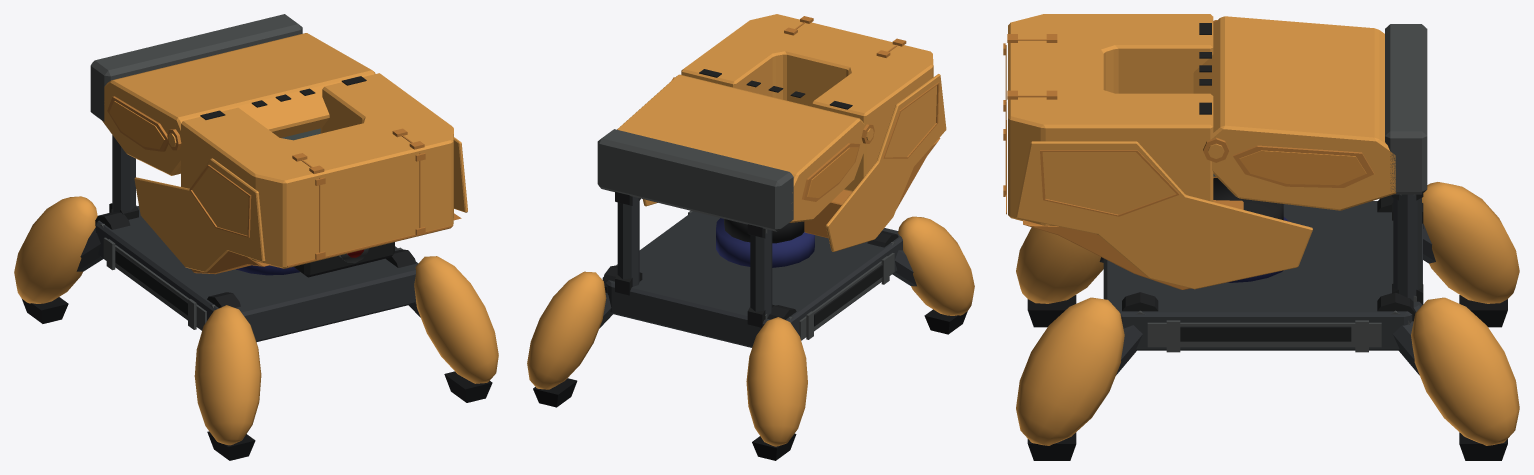
The model's file is phido_lowpoly.glb.
3 renders of one model, left to right at view 1: azimuth 30°, elevation 25°; view 2: azimuth 150°, elevation 25°; view 3: azimuth 270°, elevation 25°, orthographic. The views are drawn at different scales.
Parts seen in each view (by area): view 1: Phido_Lowpoly; view 2: Phido_Lowpoly; view 3: Phido_Lowpoly.
Boxes of the visible parts, left/top/right/bottom form: Phido_Lowpoly: left=14, top=14, right=498, bottom=460; Phido_Lowpoly: left=527, top=14, right=974, bottom=460; Phido_Lowpoly: left=1003, top=14, right=1519, bottom=460.
Size of the model in its own units: 1.26 by 1.18 by 1.7.
Materials: 1 (1 with a texture image).
